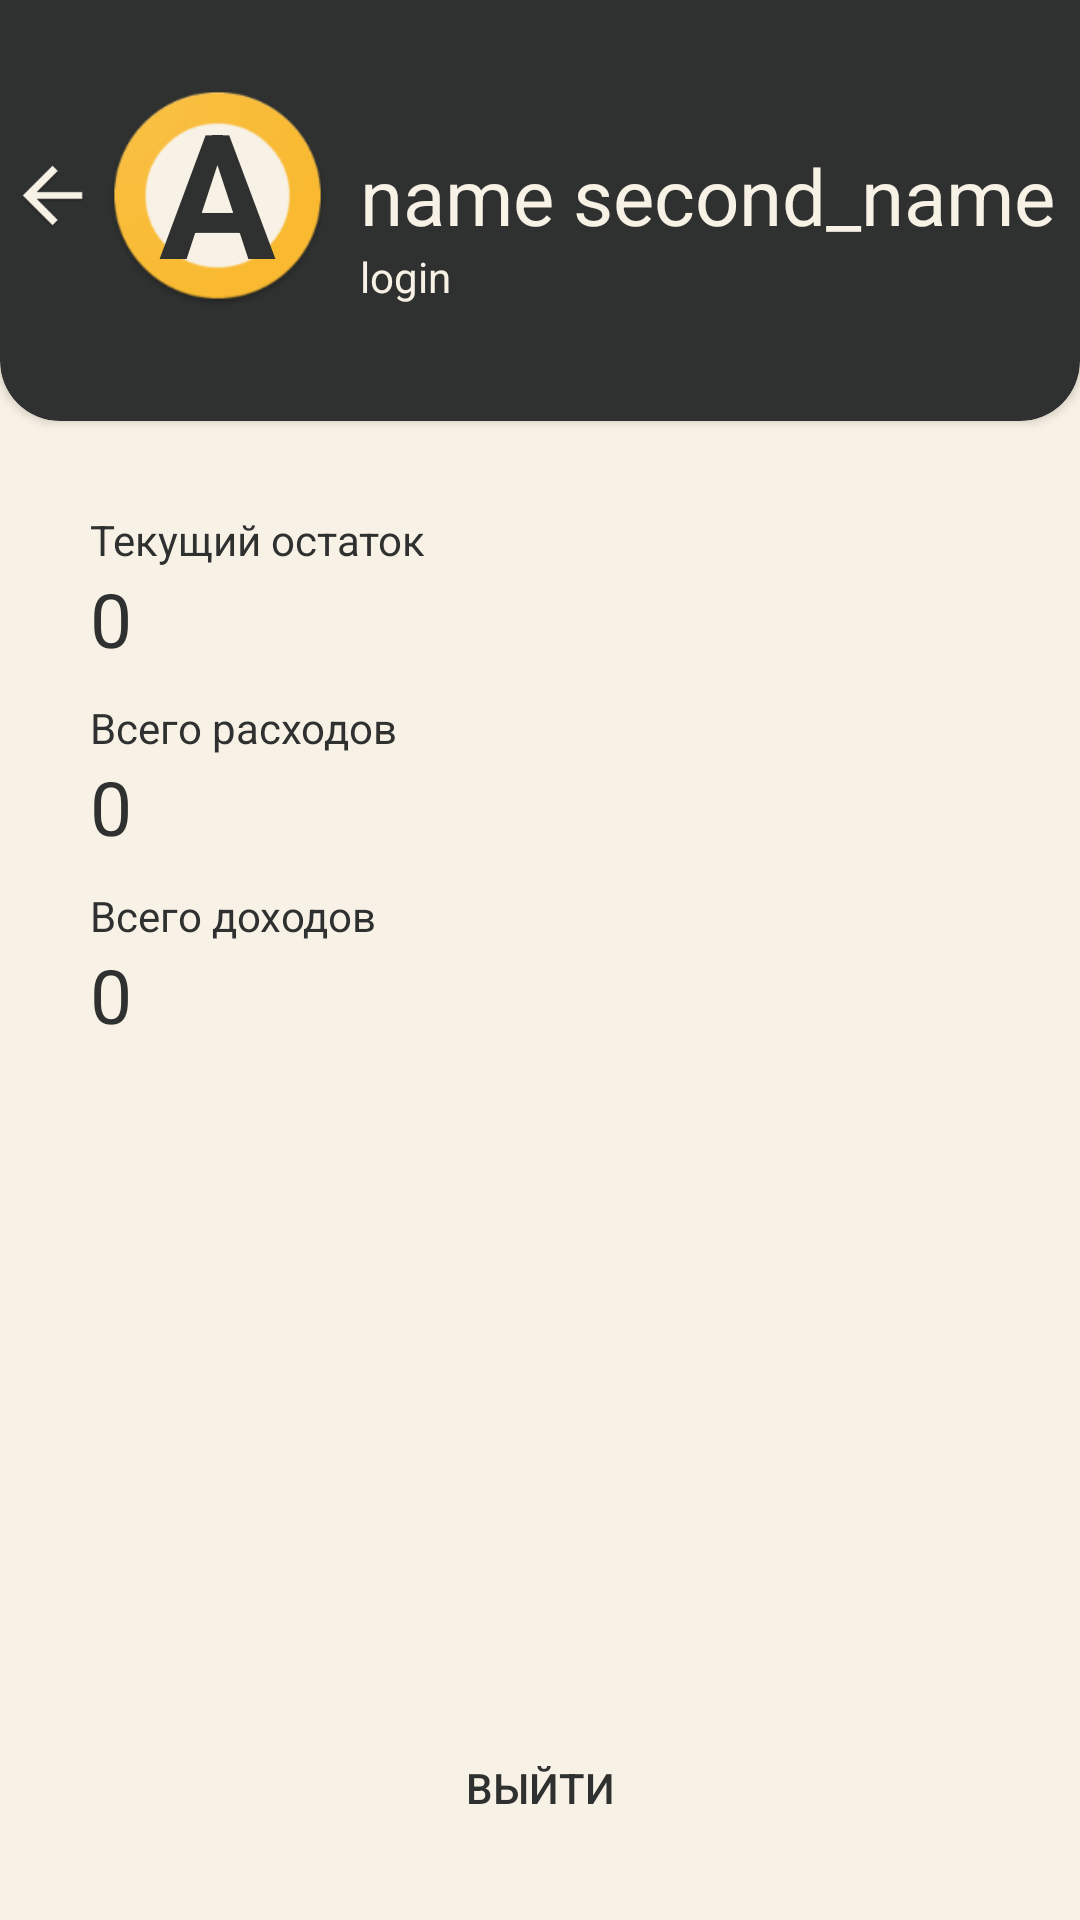

Where to tap for icons on this 1080px x 1920px app screen, as [x,y]:
arrow back: [53,195]
